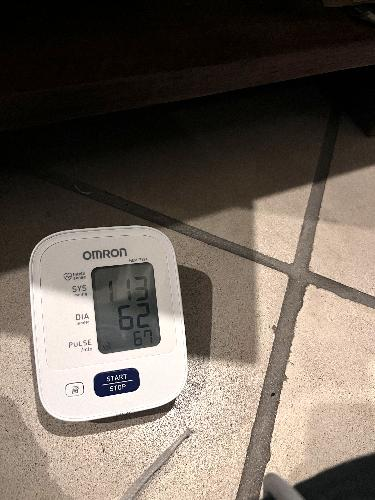bpm: (89, 261, 162, 355)
